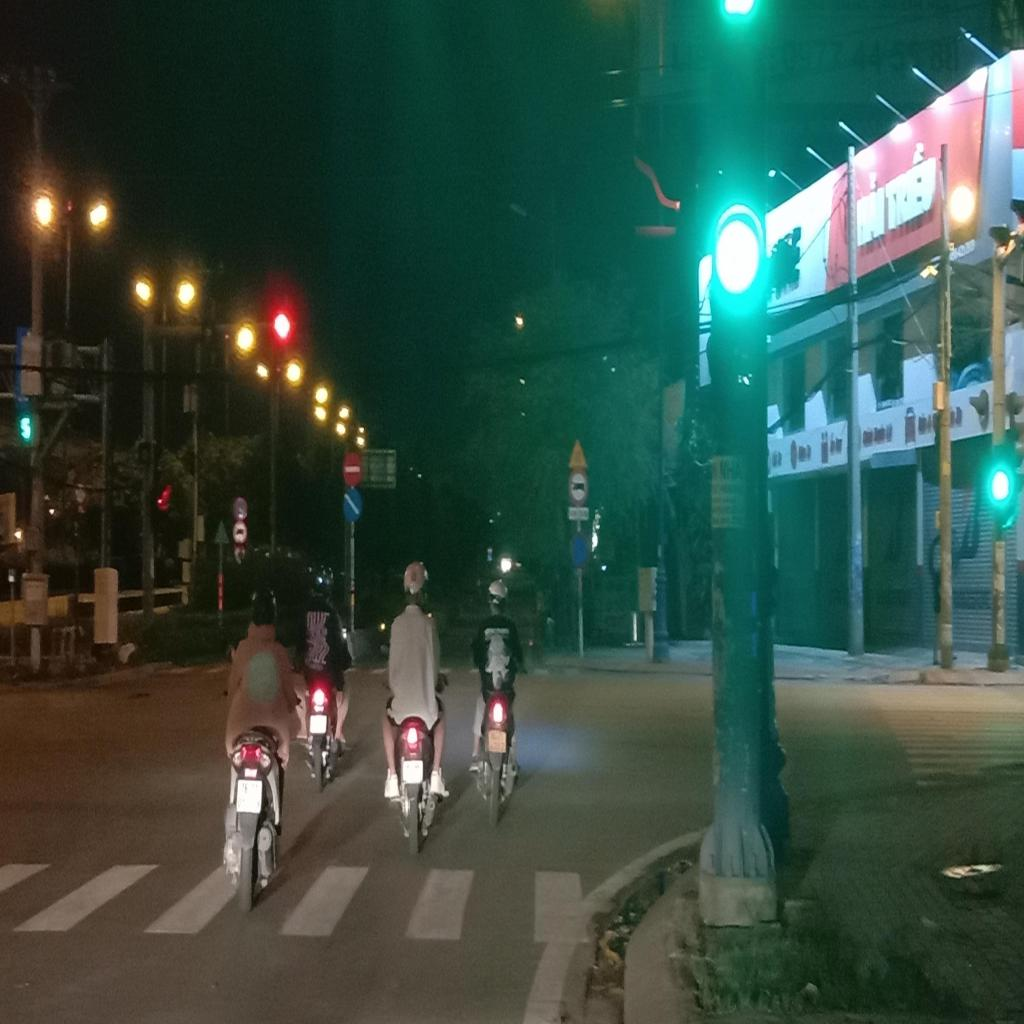cam_dung_xe_va_do_xe: (567, 532, 590, 570)
cam_o_to_tai: (568, 468, 590, 508), (232, 521, 246, 543)
cam_xe_di_nguoc_chieu: (341, 449, 363, 488)
huong_di_tren_moi_lan_duong_theo_vach_ke_duong: (341, 488, 364, 523)
khac: (567, 436, 589, 470), (568, 508, 589, 521)
